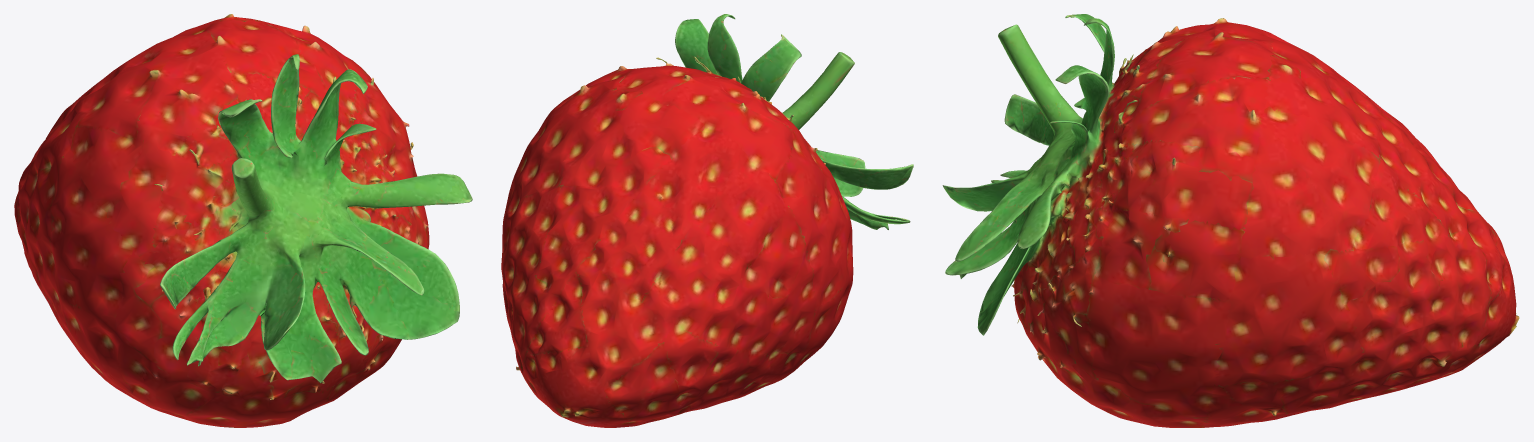
Rendered from Strawberry.glb.
3 renders of one model, left to right at view 1: azimuth 30°, elevation 25°; view 2: azimuth 150°, elevation 25°; view 3: azimuth 270°, elevation 25°, orthographic. The views are drawn at different scales.
Visible parts, largest first — view 1: mesh_node; view 2: mesh_node; view 3: mesh_node.
Part boxes in pixels (x1,y1,x2,y2): mesh_node: (14, 14, 472, 427); mesh_node: (501, 14, 913, 427); mesh_node: (942, 14, 1519, 427).
Size of the model in its own units: 1.33 by 1.42 by 1.9.
1 material, 1 textured.
